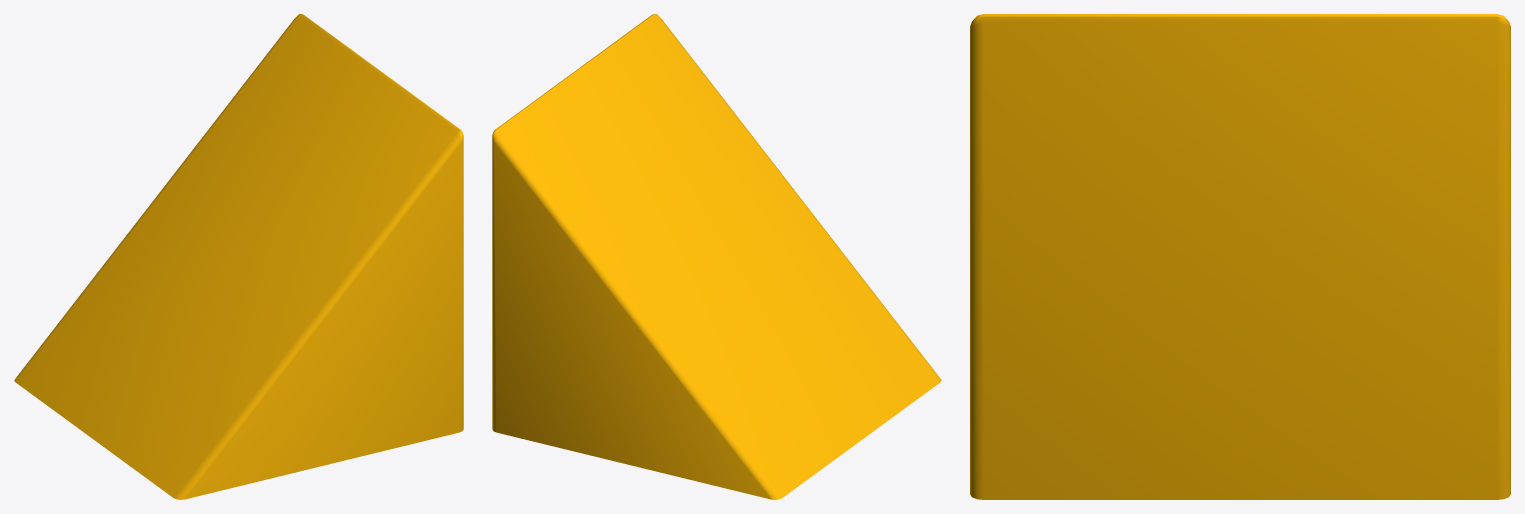
The model's file is Ramp.fbx.
3 views of the same model, side by side, from view 1: azimuth 30°, elevation 25°; view 2: azimuth 150°, elevation 25°; view 3: azimuth 270°, elevation 25° (orthographic). The views are drawn at different scales.
Visible parts, largest first — view 1: Ramp; view 2: Ramp; view 3: Ramp.
Part boxes in pixels (bbox=[...]): Ramp: bbox=[14, 14, 463, 499]; Ramp: bbox=[492, 14, 941, 499]; Ramp: bbox=[970, 14, 1510, 499].
Size of the model in its own units: 1 by 0.9873 by 1.
